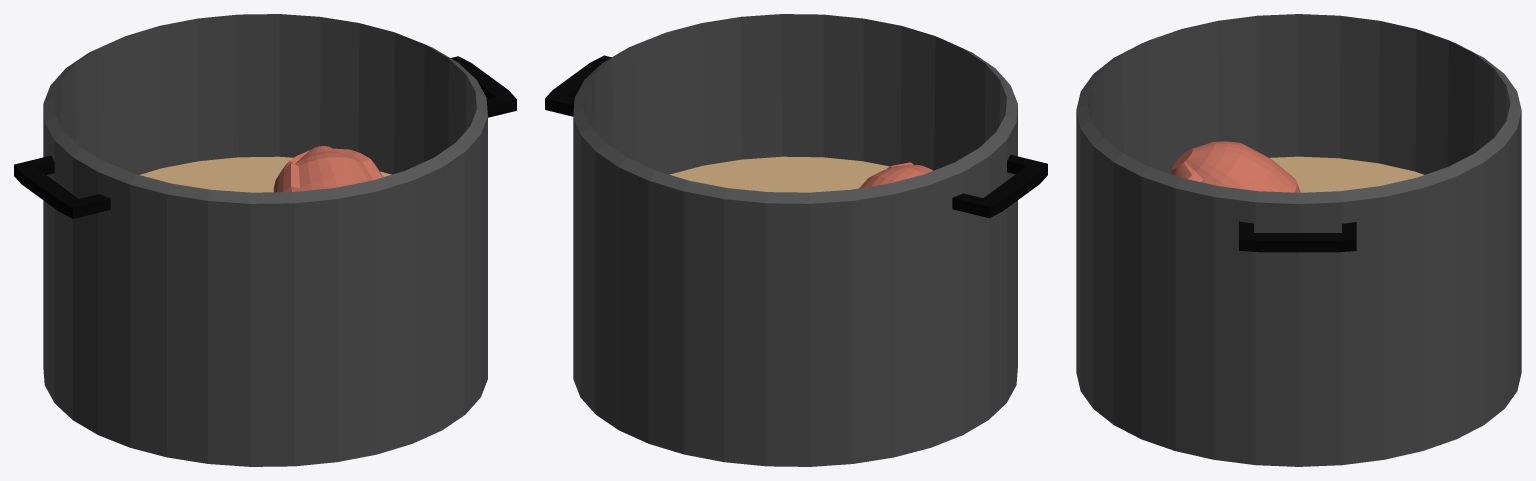
Rendered from Adobong Puti 2nd Stage.fbx.
The picture shows the model from 3 angles, left to right: view 1: azimuth 30°, elevation 25°; view 2: azimuth 150°, elevation 25°; view 3: azimuth 270°, elevation 25°; orthographic projection.
Parts seen in each view (by area): view 1: Cylinder, Liquid, Cylinder.001; view 2: Cylinder, Liquid, Cylinder.002; view 3: Cylinder, Cylinder.002, Liquid.
Part boxes in pixels (left/top/right/bottom): Cylinder: left=14, top=14, right=516, bottom=466; Liquid: left=140, top=156, right=391, bottom=192; Cylinder.001: left=273, top=146, right=383, bottom=192; Cylinder: left=545, top=14, right=1047, bottom=466; Liquid: left=669, top=156, right=889, bottom=192; Cylinder.002: left=859, top=162, right=933, bottom=188; Cylinder: left=1076, top=14, right=1521, bottom=466; Cylinder.002: left=1170, top=141, right=1300, bottom=192; Liquid: left=1270, top=156, right=1423, bottom=192.
Bounding box in the file's own units: 79.81 × 45.7 × 68.44.
